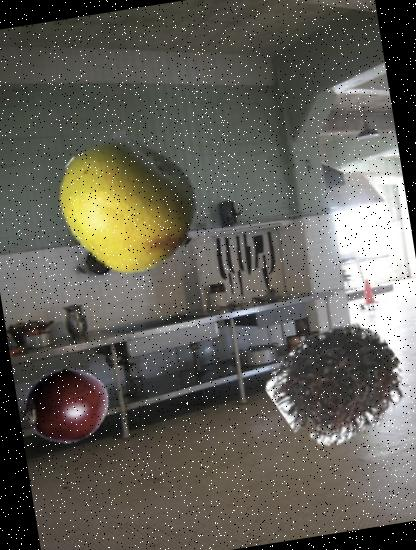Pomelo: (46, 121, 210, 286)
Rambutan: (267, 312, 413, 458)
Tamarillo: (16, 355, 117, 456)
